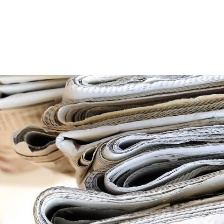news_paper: (0, 73, 223, 224)
